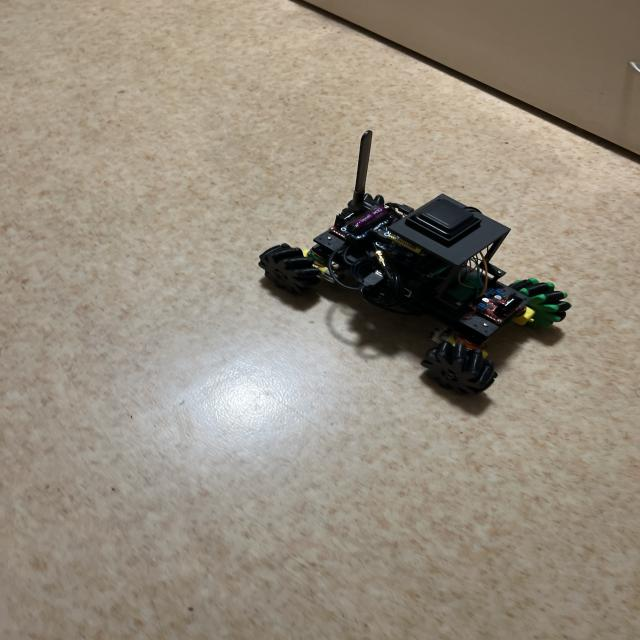robot: (259, 131, 571, 393)
